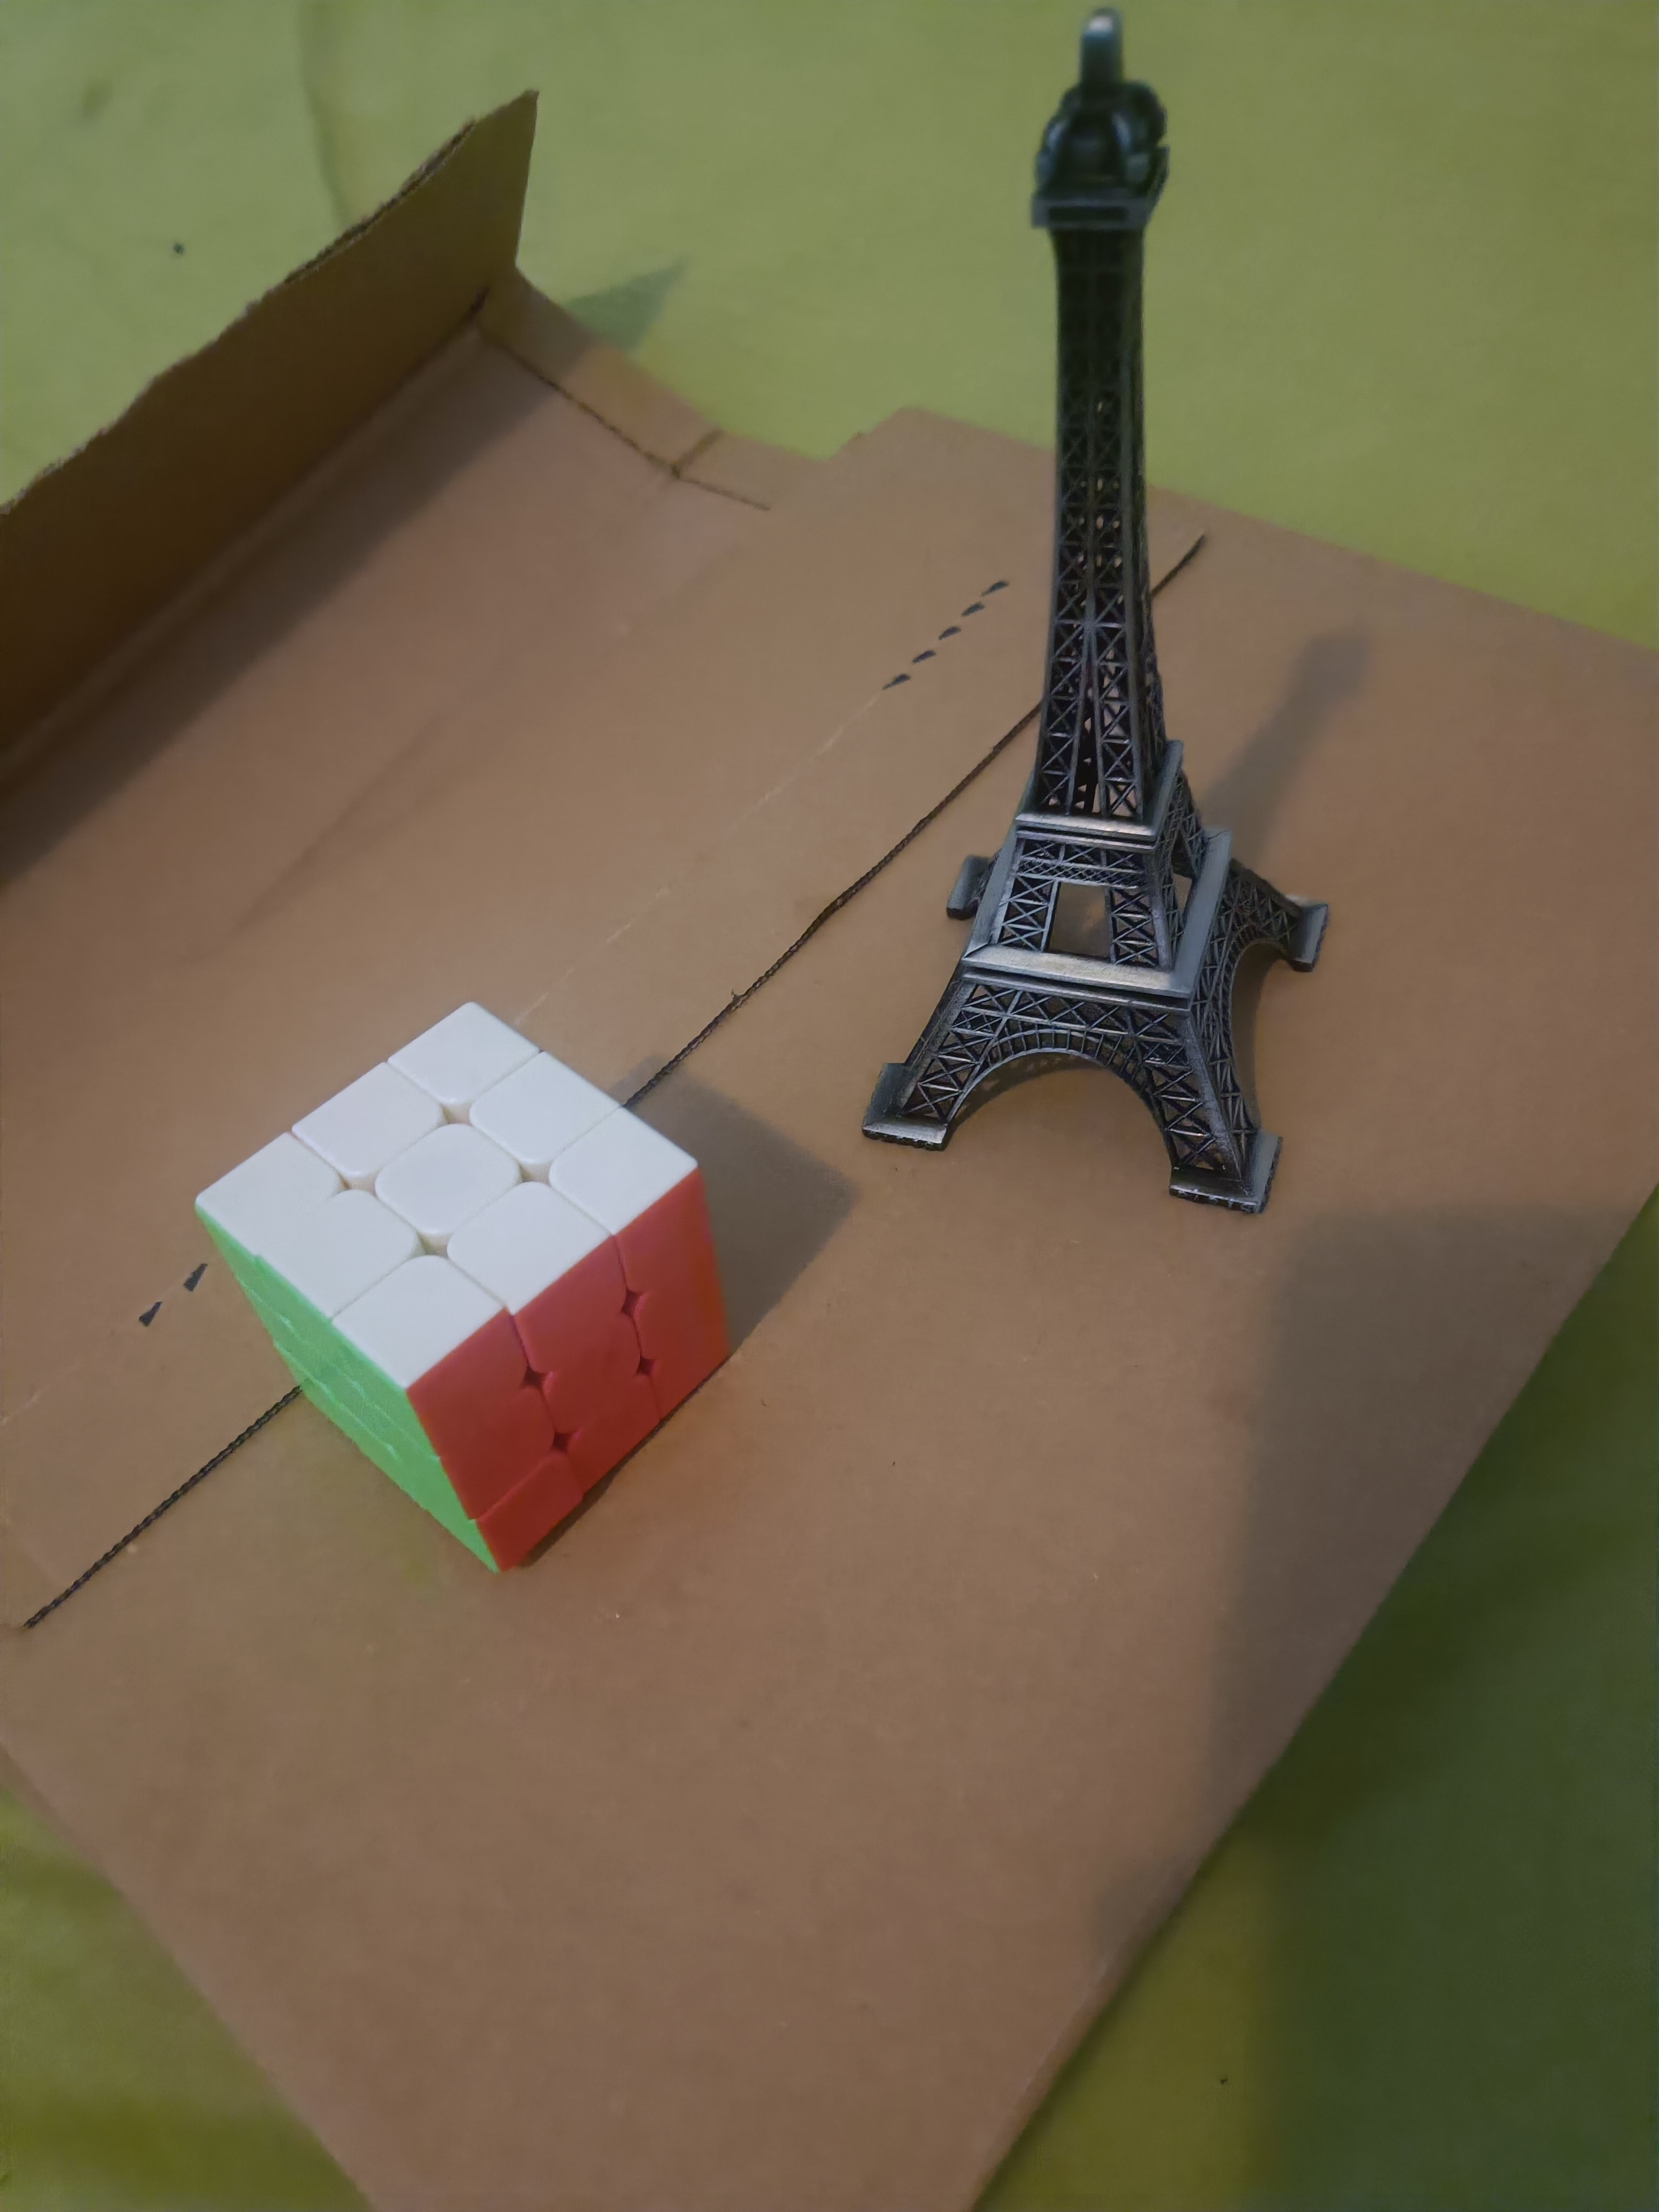Eiffel Tower: (838, 10, 1364, 1223)
Rubiks Cube: (193, 974, 749, 1581)
